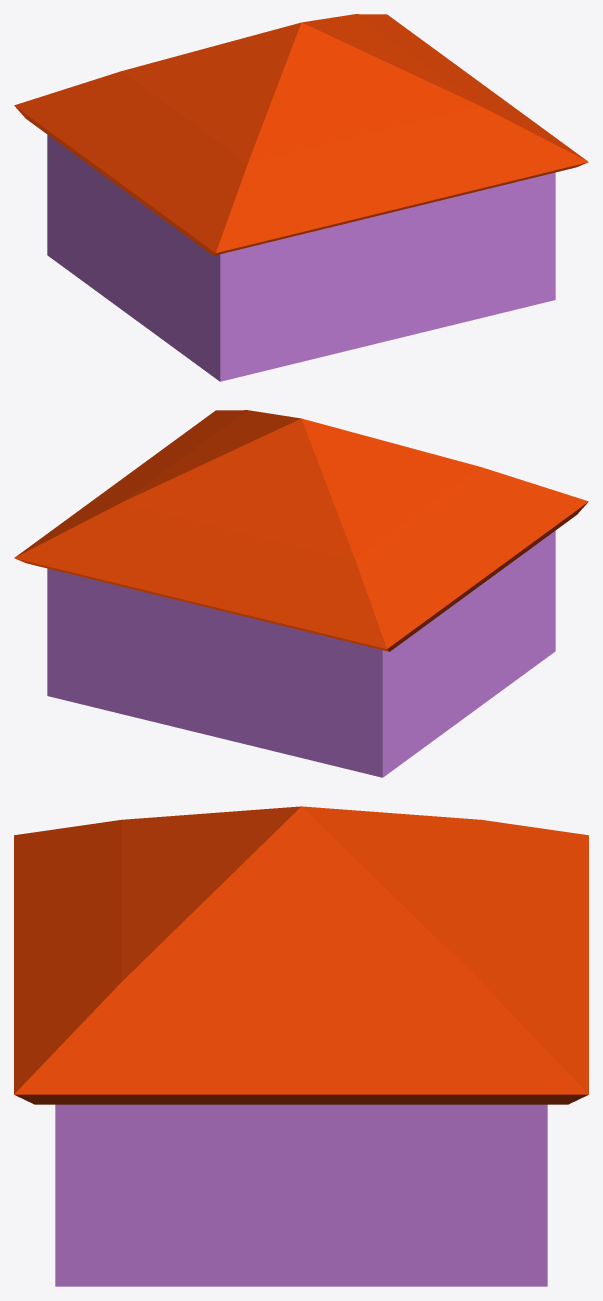
The model's file is EVblendyesilmor.fbx.
The picture shows the model from 3 angles, top to bottom: view 1: azimuth 30°, elevation 25°; view 2: azimuth 150°, elevation 25°; view 3: azimuth 270°, elevation 25°; orthographic projection. The views are drawn at different scales.
Parts seen in each view (by area): view 1: Cone; view 2: Cone; view 3: Cone.
Part boxes in pixels (x1,y1,x2,y2): Cone: (14, 14, 588, 381); Cone: (14, 410, 588, 777); Cone: (14, 806, 588, 1286).
Bounding box in the file's own units: 337 × 220 × 316.
